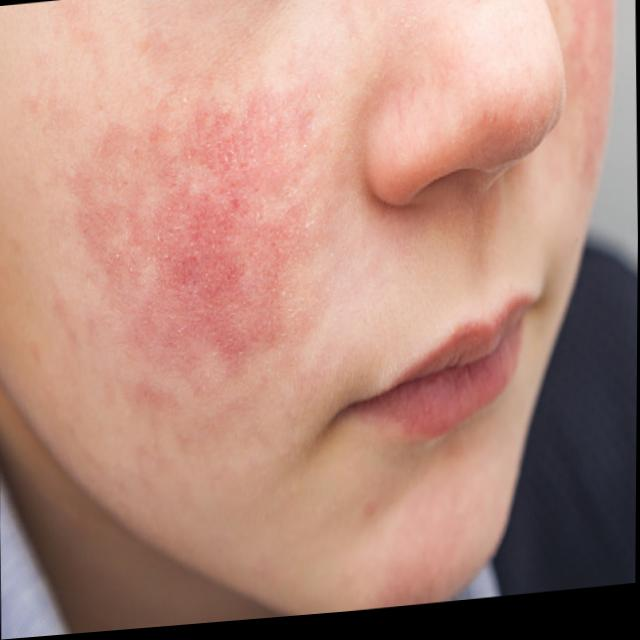skinredness: (56, 79, 354, 406)
